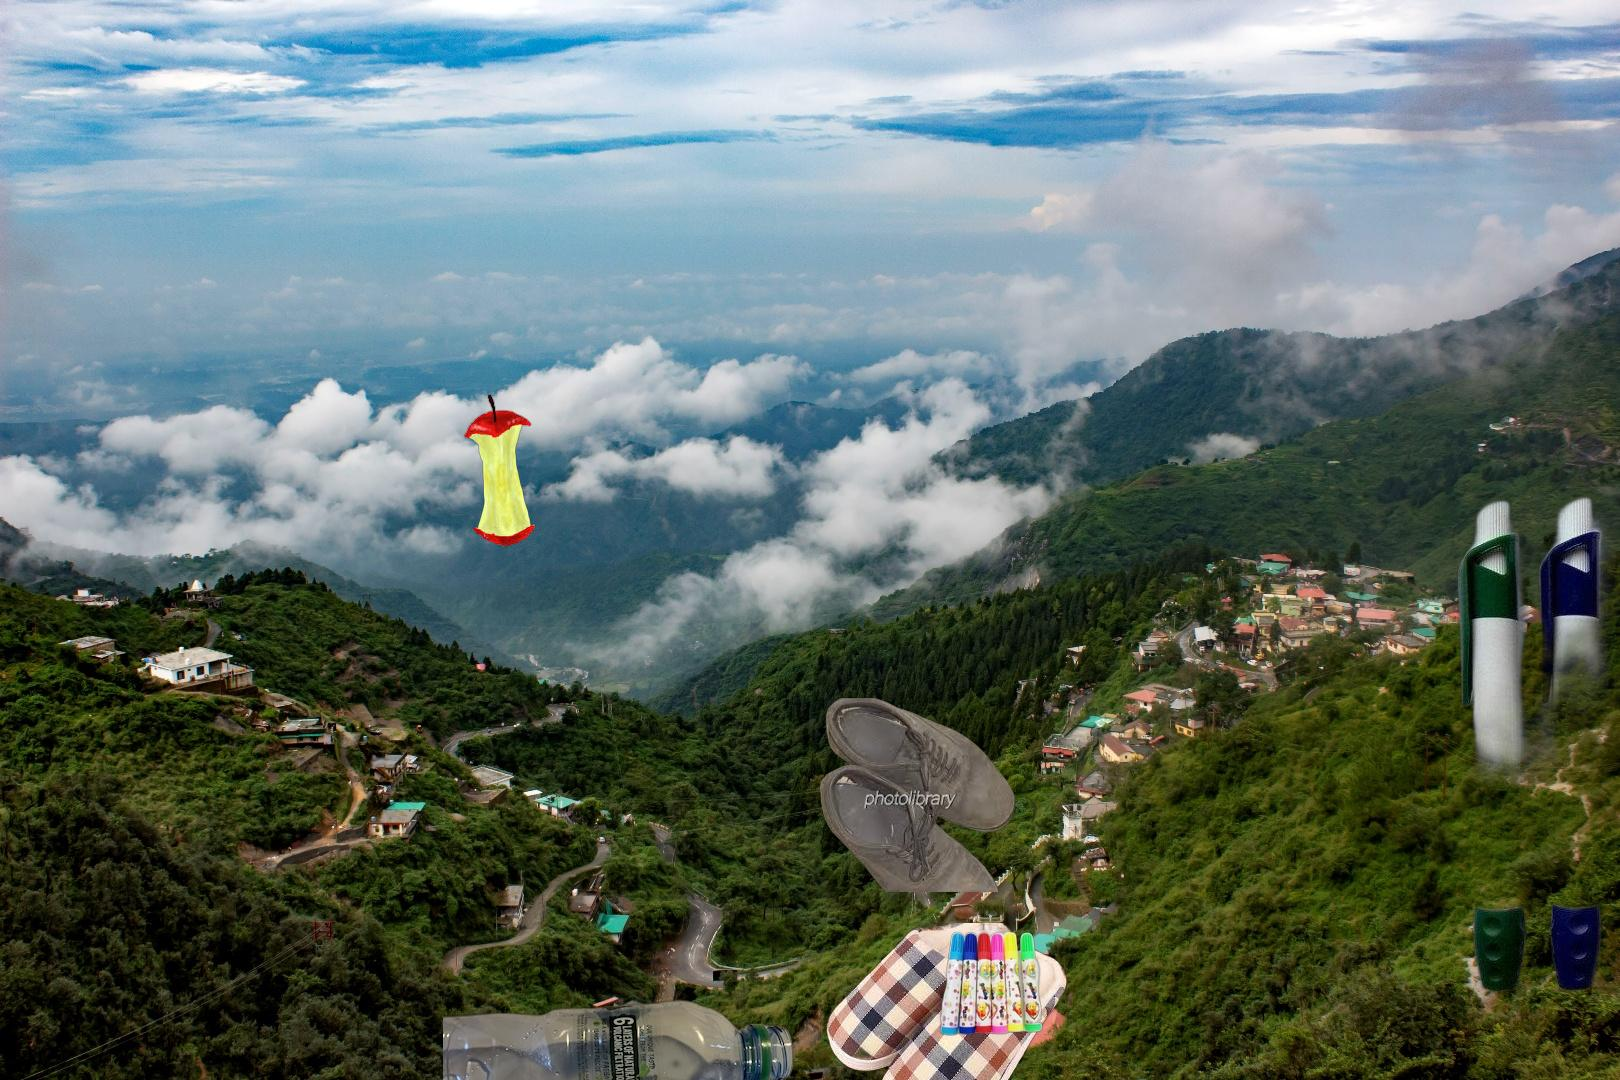biological: (462, 392, 538, 548)
penholder: (1373, 460, 1620, 1032), (937, 917, 1045, 1038)
plastic-bottles: (444, 994, 797, 1080)
shoes: (817, 698, 1019, 892), (824, 923, 1070, 1080)
